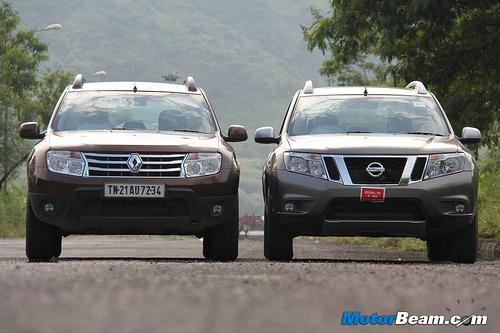licence-plate: (104, 180, 165, 200)
